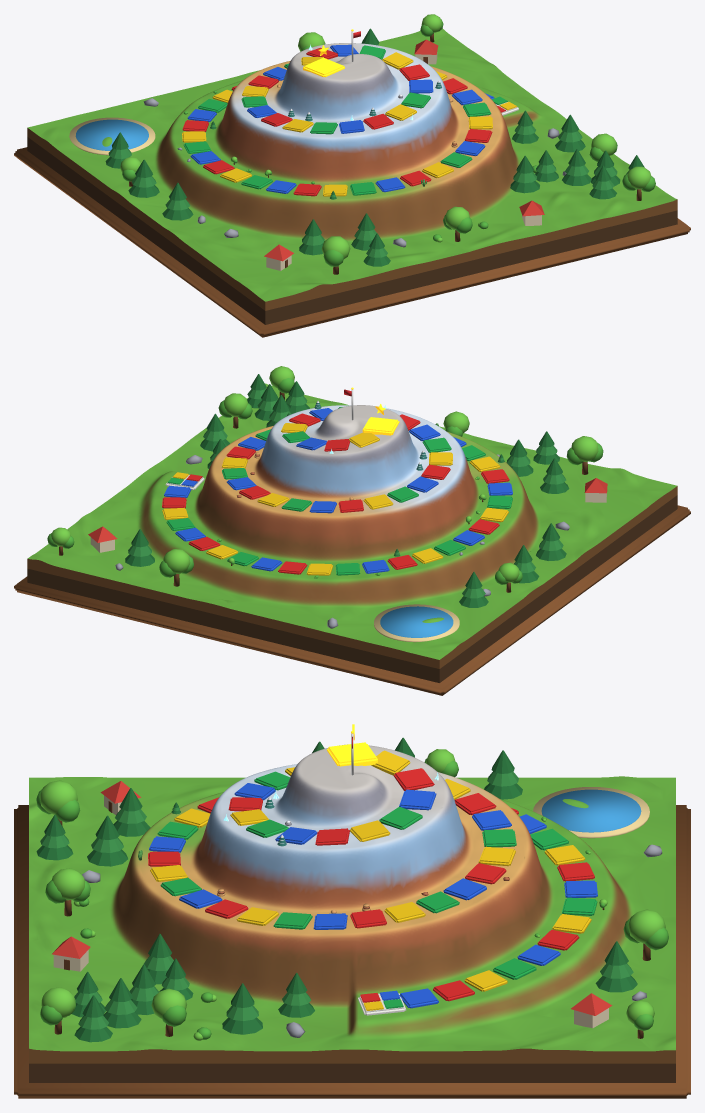
File: montana_ligera.glb
3 renders of one model, top to bottom at view 1: azimuth 30°, elevation 25°; view 2: azimuth 150°, elevation 25°; view 3: azimuth 270°, elevation 25°, orthographic. The views are drawn at different scales.
Parts seen in each view (by area): view 1: Montana_Lite, Base_Faldon, Base_Madera, Deco_Lago_Agua, Deco_Lago_Arena, Deco_pine_005, Deco_round_006, Deco_round_000, Deco_pine_003, Deco_pine_006, Deco_pine_004, Deco_pine_002 (+11 smaller); view 2: Montana_Lite, Base_Faldon, Base_Madera, Deco_Lago_Agua, Deco_round_006, Deco_Lago_Arena, Deco_round_003, Deco_round_004, Deco_pine_003, Deco_pine_009, Deco_pine_010, Deco_pine_011 (+9 smaller); view 3: Montana_Lite, Base_Faldon, Base_Madera, Deco_Lago_Agua, Deco_round_003, Deco_round_006, Deco_round_001, Deco_pine_004, Deco_pine_009, Deco_pine_001, Deco_Lago_Arena, Deco_pine_014 (+39 smaller).
Part boxes in pixels (x1,y1,x2,y2): Montana_Lite: (27,28,677,301); Base_Faldon: (27,128,677,324); Base_Madera: (14,147,690,337); Deco_Lago_Agua: (75,119,148,150); Deco_Lago_Arena: (69,117,155,155); Deco_pine_005: (128,159,159,197); Deco_round_006: (321,236,350,274); Deco_round_000: (622,166,655,200); Deco_pine_003: (162,182,193,220); Deco_pine_006: (510,155,539,193); Deco_pine_004: (555,114,585,152); Deco_pine_002: (562,149,591,185); Montana_Lite: (28,383,677,659); Base_Faldon: (27,486,677,682); Base_Madera: (14,505,690,695); Deco_Lago_Agua: (380,606,453,637); Deco_round_006: (566,436,603,474); Deco_Lago_Arena: (374,604,459,642); Deco_round_003: (159,549,193,586); Deco_round_004: (218,393,252,428); Deco_pine_003: (536,523,566,560); Deco_pine_009: (125,529,154,566); Deco_pine_010: (540,458,569,493); Deco_pine_011: (459,572,488,607); Montana_Lite: (29,744,675,1051); Base_Faldon: (29,776,675,1082); Base_Madera: (14,805,690,1098); Deco_Lago_Agua: (541,789,641,832); Deco_round_003: (623,909,668,960); Deco_round_006: (36,780,80,826); Deco_round_001: (45,868,90,916); Deco_pine_004: (222,983,262,1034); Deco_pine_009: (595,941,637,992); Deco_pine_001: (87,815,127,866); Deco_Lago_Arena: (533,787,649,838); Deco_pine_014: (103,978,141,1028).
Size of the model in its own units: 27.2 by 10.05 by 27.2.
